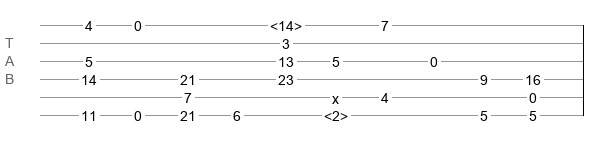0: (134, 18, 142, 28), (134, 108, 142, 118), (430, 54, 438, 64), (529, 90, 537, 100)
11: (81, 108, 97, 118)
13: (278, 54, 294, 64)
14: (81, 72, 97, 82)
16: (525, 72, 541, 82)
21: (180, 108, 196, 118), (180, 72, 196, 82)
23: (278, 72, 294, 82)
3: (282, 36, 290, 46)
4: (85, 18, 93, 28), (381, 90, 389, 100)
5: (85, 54, 93, 64), (332, 54, 340, 64), (480, 108, 488, 118), (529, 108, 537, 118)
6: (233, 108, 241, 118)
7: (184, 90, 192, 100), (381, 18, 389, 28)
9: (480, 72, 488, 82)
harmonic: (270, 18, 302, 28), (324, 108, 348, 118)
x: (332, 91, 339, 99)
